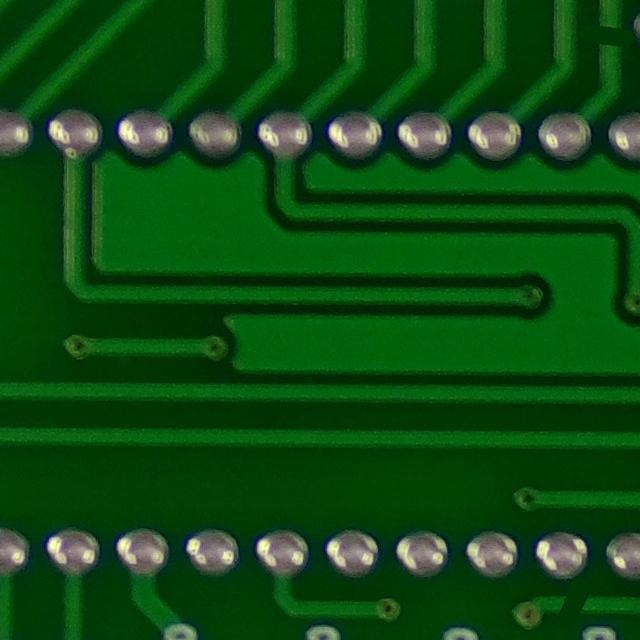open_circuit: (589, 15, 630, 57), (549, 587, 594, 623)
